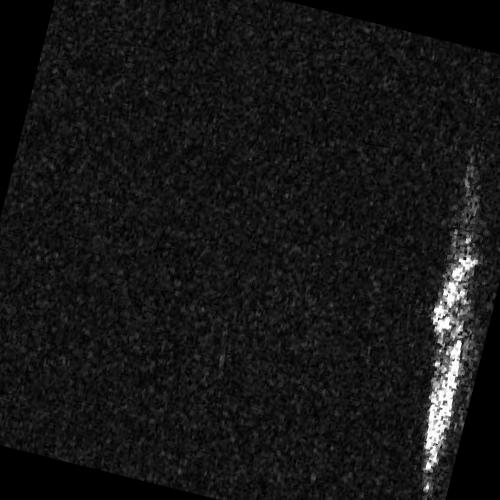ship: (420, 212, 480, 498)
